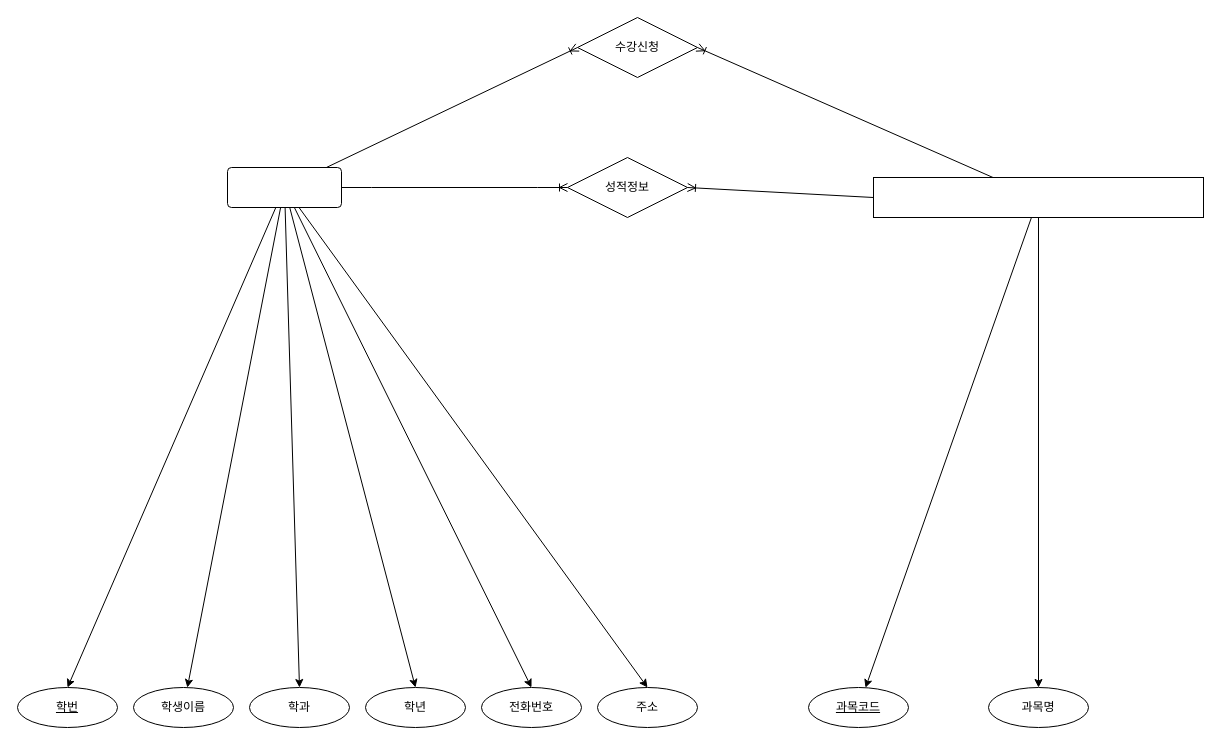
Some shapes in this 1221 by 745 pixel diagram are drawn without their labels. The centre of each missing label's shape, as x and y in pixels:
"과목정보" belongs at pixel 1038 197.
"학생정보" belongs at pixel 284 187.
